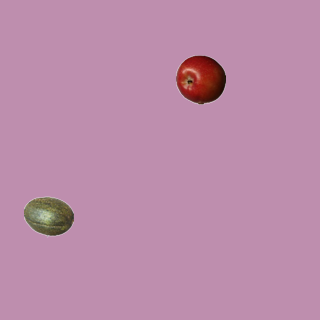Apple Braeburn: (175, 54, 225, 104)
Melon Piel de Sapo: (23, 191, 73, 241)
